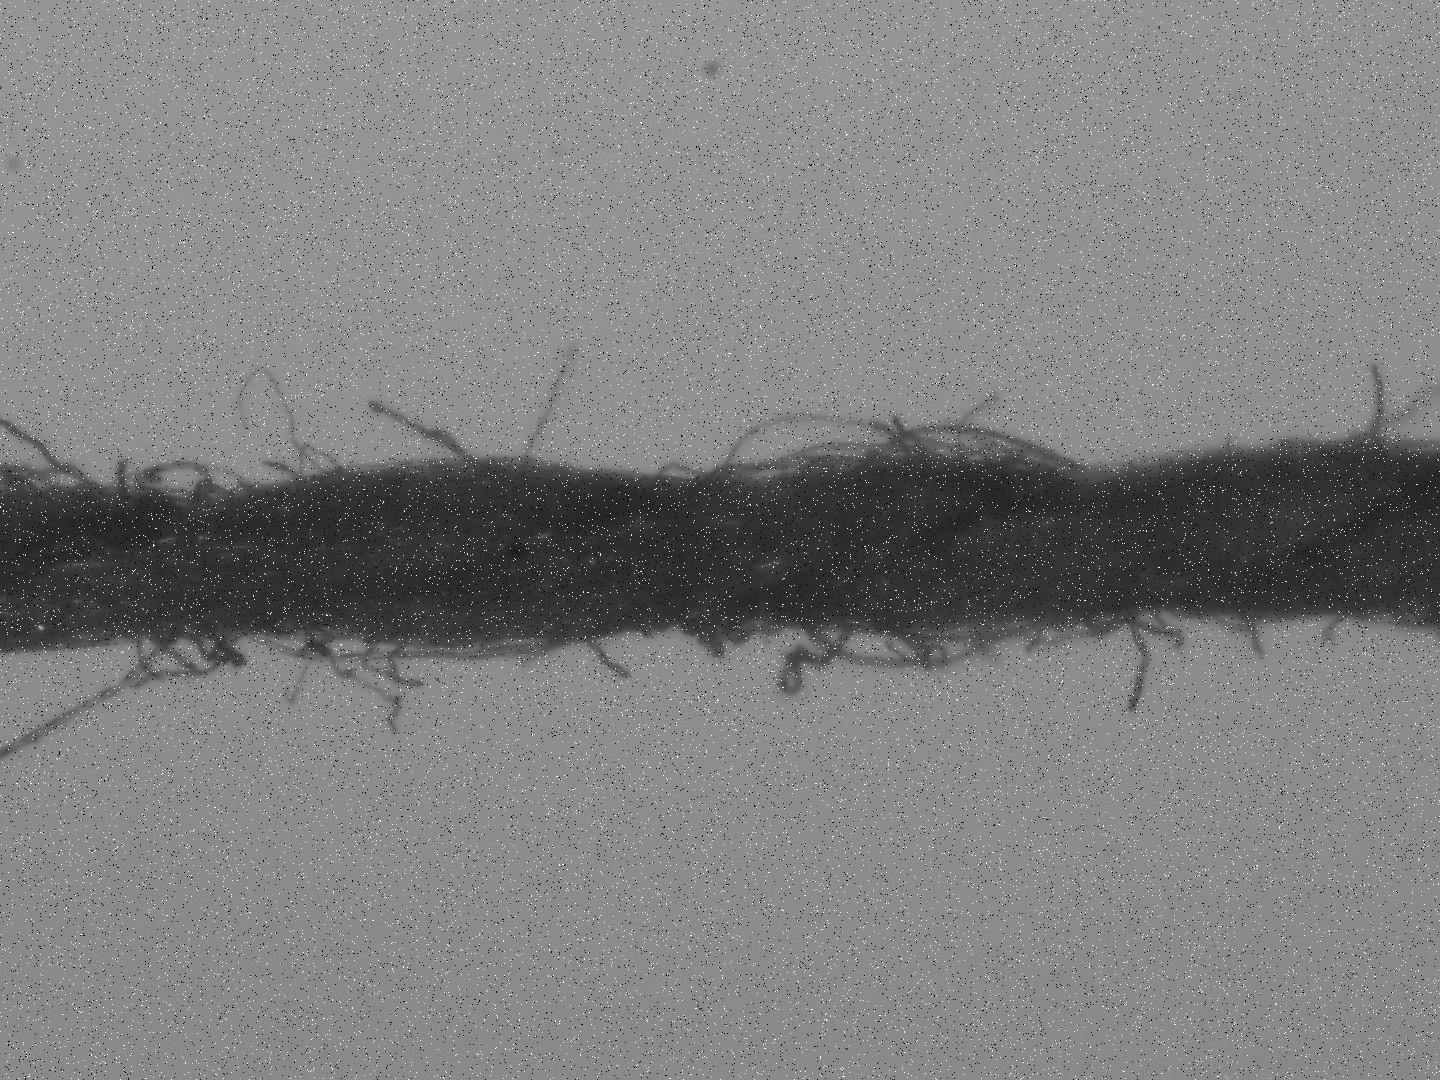loop_fiber: (723, 414, 912, 483), (253, 628, 570, 669), (861, 428, 1082, 466), (806, 627, 933, 675), (135, 630, 244, 676), (112, 462, 257, 496), (1074, 605, 1135, 643), (1129, 605, 1180, 640), (651, 464, 706, 481)
protruding_fiber: (366, 399, 480, 464), (519, 348, 582, 462), (1120, 611, 1147, 710), (583, 639, 628, 680), (1373, 357, 1388, 458)
